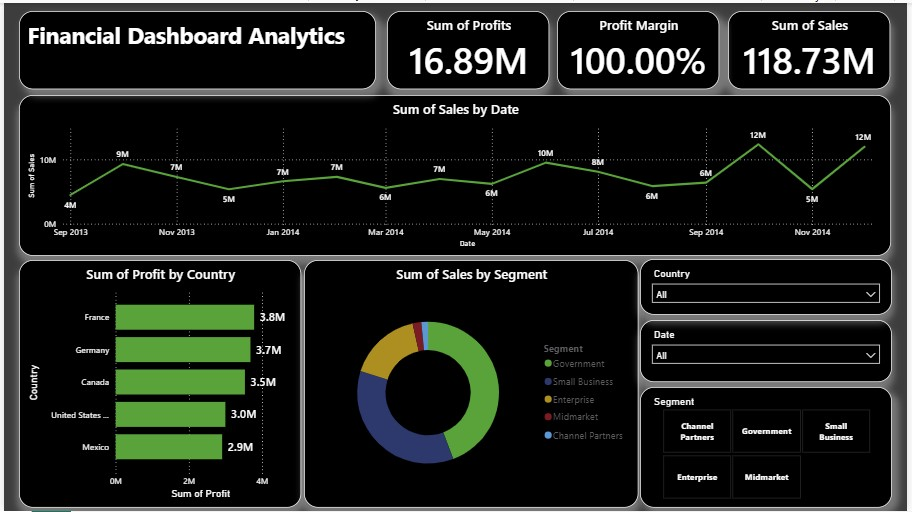

Layout of this report page (visuals, bound fields, positions):
{"tool":"powerbi","page":{"name":"Page 1","canvas":[1280,720],"ordinal":0},"visuals":[{"type":"card","title":"Sum of Sales","fields":{"Values":["Sum(Sheet1. Sales)"]},"box":[1026.4,11.8,230.1,110.9],"z":0},{"type":"card","title":"Sum of Profits","fields":{"Values":["Sum(Sheet1.Profit)"]},"box":[542.6,11.8,230.1,110.9],"z":1000},{"type":"card","title":"Profit Margin","fields":{"Values":["Sheet1.Profit Margin"]},"box":[784.5,11.8,230.1,110.9],"z":2000},{"type":"lineChart","fields":{"Category":["Sheet1.Date"],"Y":["Sum(Sheet1. Sales)"]},"box":[21.8,131,1236.3,228.5],"z":3000},{"type":"clusteredBarChart","fields":{"Category":["Sheet1.Country"],"Y":["Sum(Sheet1.Profit)"]},"box":[21.8,364.5,399.8,351.1],"z":4000},{"type":"donutChart","fields":{"Category":["Sheet1.Segment"],"Y":["Sum(Sheet1. Sales)"]},"box":[425,364.5,473.7,351.1],"z":5000},{"type":"slicer","fields":{"Values":["Sheet1.Date"]},"box":[901.4,449.3,357.2,87.9],"z":6000},{"type":"slicer","fields":{"Values":["Sheet1.Country"]},"box":[901.4,362.8,357.2,79.4],"z":7000},{"type":"slicer","fields":{"Values":["Sheet1.Segment"]},"box":[901.4,544.3,357.2,171.5],"z":8000},{"type":"textbox","box":[21.8,11.8,505.6,110.9],"z":9000}]}

Visuals, with their boxes in screenshot pixels (x1, y1, x2, y2), scaled from the page's 1280x720 canvas onto the 912x512 screenshot:
"Sum of Sales" card: {"x1": 731, "y1": 8, "x2": 895, "y2": 87}
"Sum of Profits" card: {"x1": 387, "y1": 8, "x2": 551, "y2": 87}
"Profit Margin" card: {"x1": 559, "y1": 8, "x2": 723, "y2": 87}
lineChart - Sheet1.Date x Sum(Sheet1. Sales): {"x1": 16, "y1": 93, "x2": 896, "y2": 256}
clusteredBarChart - Sheet1.Country x Sum(Sheet1.Profit): {"x1": 16, "y1": 259, "x2": 300, "y2": 509}
donutChart - Sheet1.Segment x Sum(Sheet1. Sales): {"x1": 303, "y1": 259, "x2": 640, "y2": 509}
slicer - Sheet1.Date: {"x1": 642, "y1": 320, "x2": 897, "y2": 382}
slicer - Sheet1.Country: {"x1": 642, "y1": 258, "x2": 897, "y2": 314}
slicer - Sheet1.Segment: {"x1": 642, "y1": 387, "x2": 897, "y2": 509}
textbox: {"x1": 16, "y1": 8, "x2": 376, "y2": 87}
